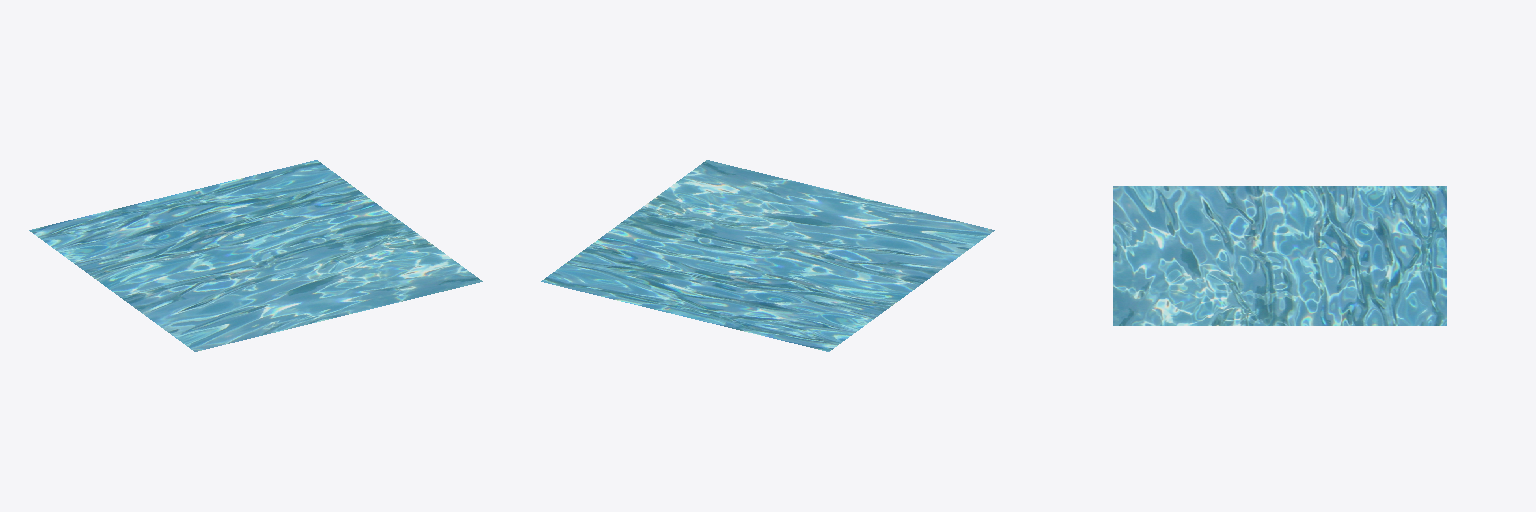
3 views of the same model, side by side, from view 1: azimuth 30°, elevation 25°; view 2: azimuth 150°, elevation 25°; view 3: azimuth 270°, elevation 25° (orthographic).
Visible parts, largest first — view 1: Plane; view 2: Plane; view 3: Plane.
Boxes of the visible parts, box(x1,y1,x2,y2) form: Plane: box(29, 160, 482, 351); Plane: box(541, 160, 994, 351); Plane: box(1113, 186, 1446, 325).
Size of the model in its own units: 1 by 0 by 1.
Materials: 1 (1 with a texture image).